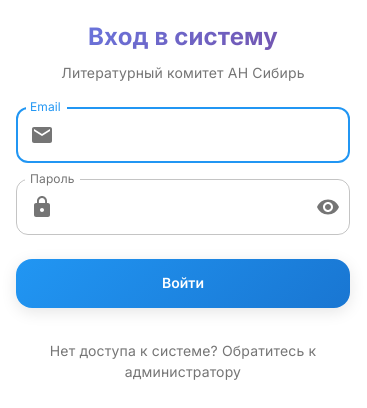
Scenario: LoginForm › shows validation error for invalid email
In the field labelled "Email": [206, 135] box [62,107,350,163], type "invalid-email"
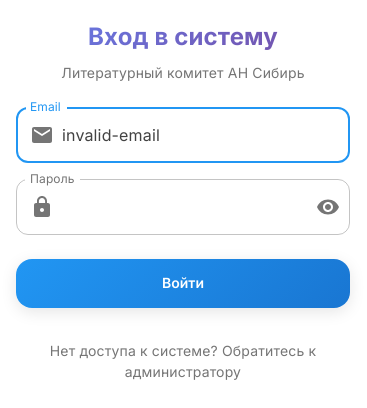
Press Tab
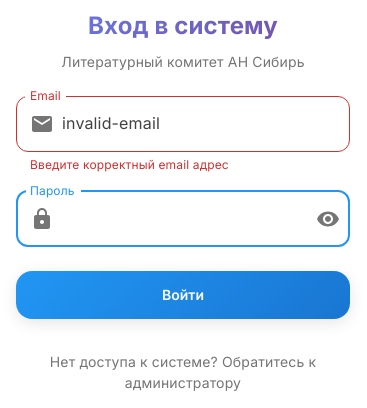
Result: the text "Введите корректный email адрес" is shown at [30,157,229,172]
